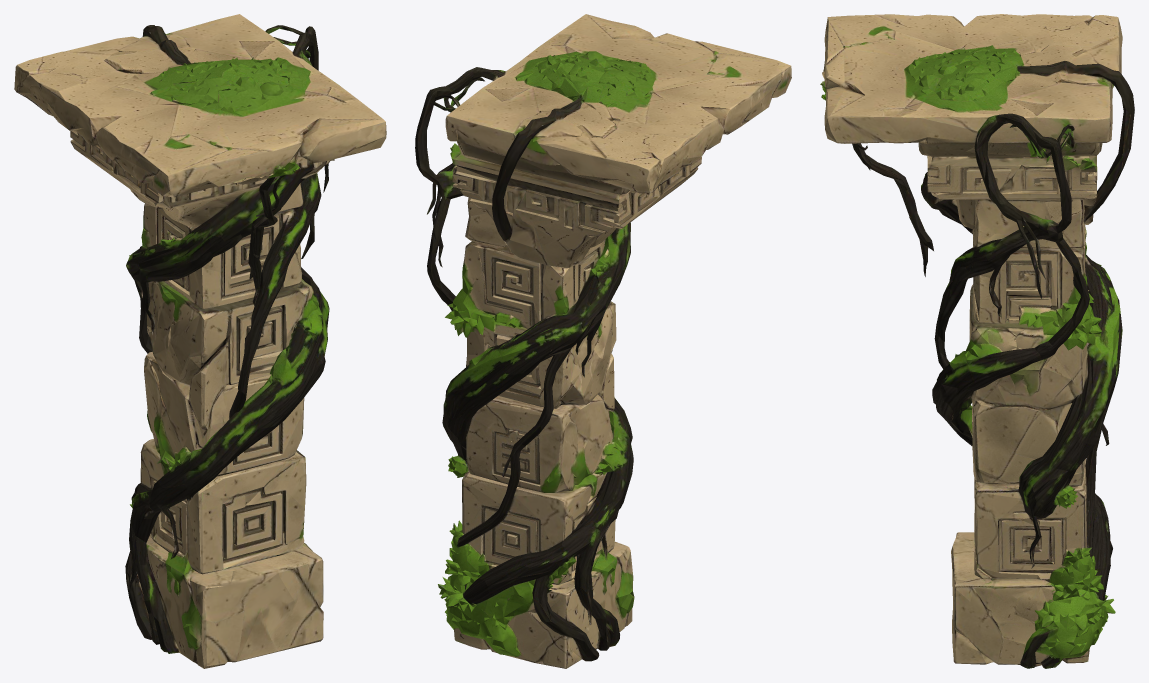
The model's file is RuinLedge.fbx.
The picture shows the model from 3 angles, left to right: view 1: azimuth 30°, elevation 25°; view 2: azimuth 150°, elevation 25°; view 3: azimuth 270°, elevation 25°; orthographic projection. The views are drawn at different scales.
Parts seen in each view (by area): view 1: RuinLedge; view 2: RuinLedge; view 3: RuinLedge.
Part boxes in pixels (x1,y1,x2,y2): RuinLedge: (14, 14, 386, 668); RuinLedge: (415, 14, 791, 668); RuinLedge: (820, 14, 1134, 668).
Size of the model in its own units: 0.9862 by 2 by 1.01.
1 material, 1 textured.
